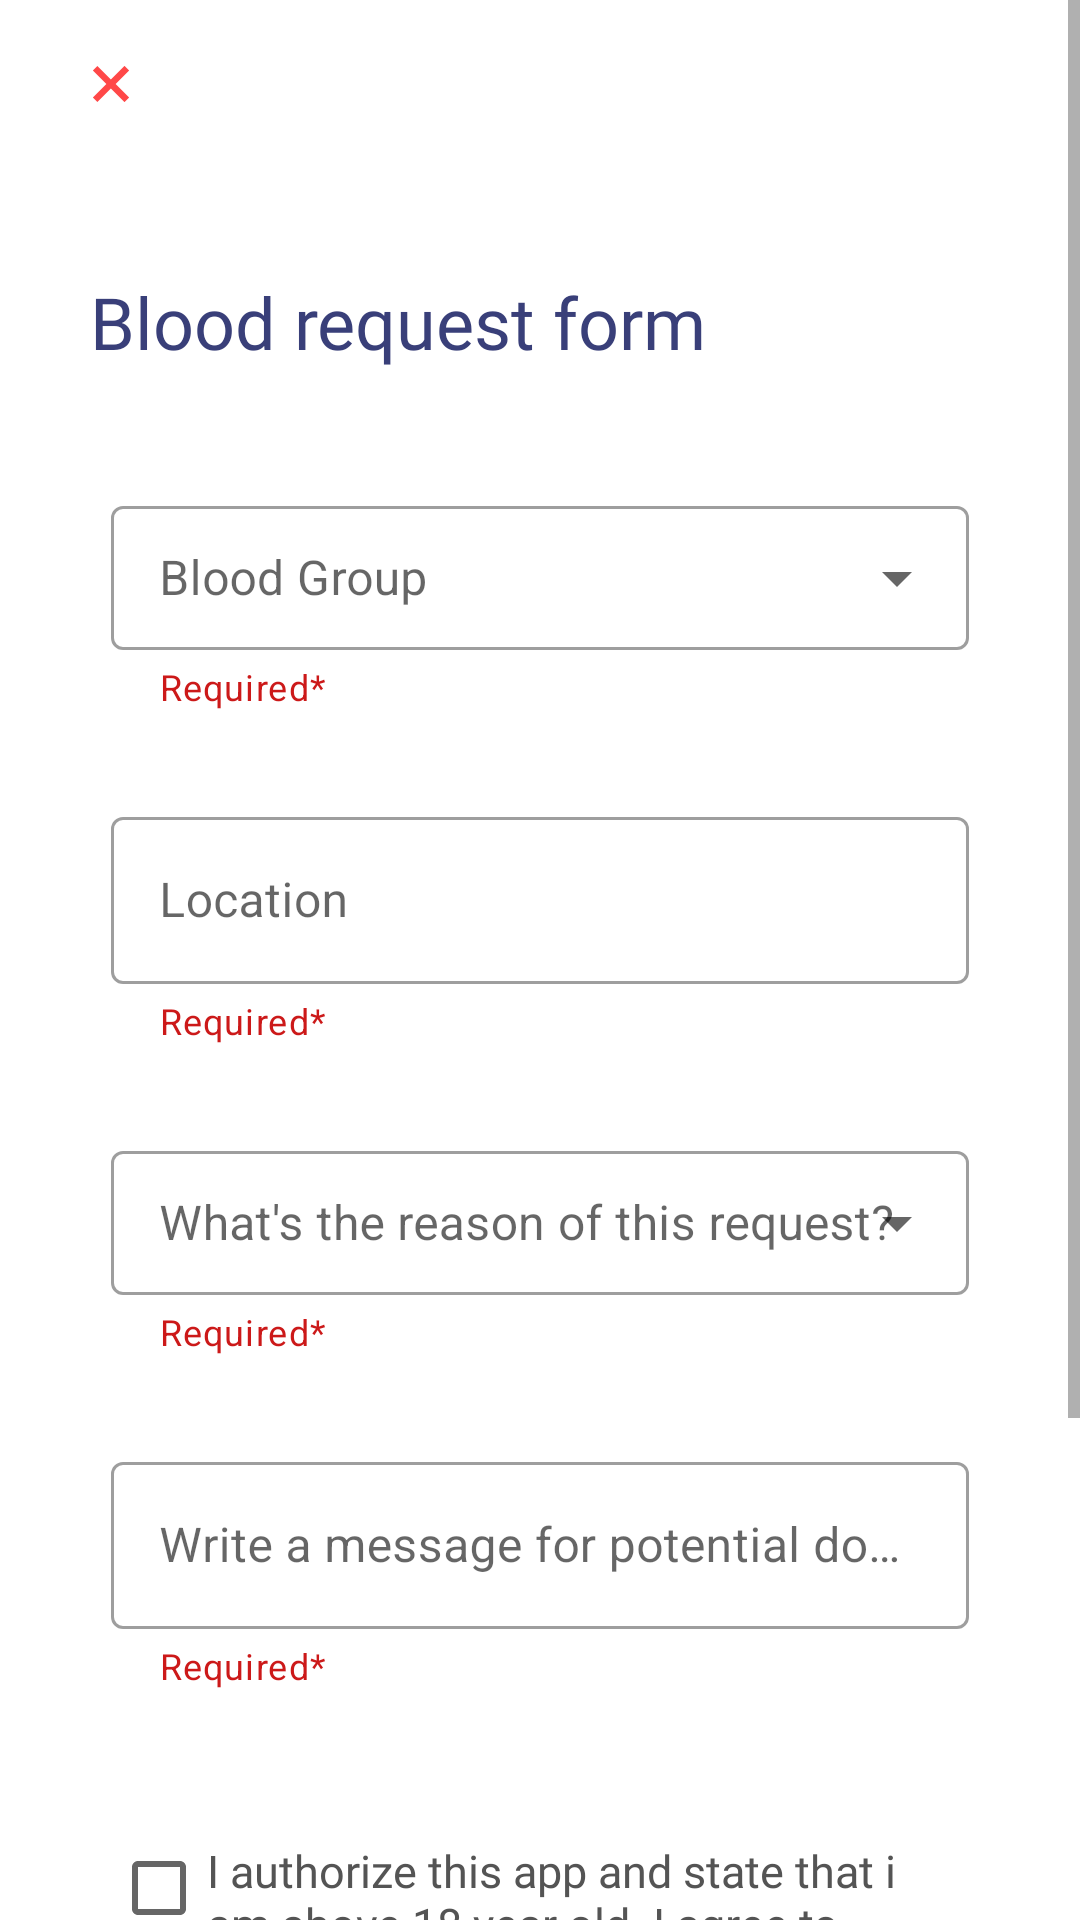

Screen size 1080px×1920px. Icon name, then its box in pixels as detection(x1, y1, x2, y2):
cancel: detection(93, 66, 129, 102)
